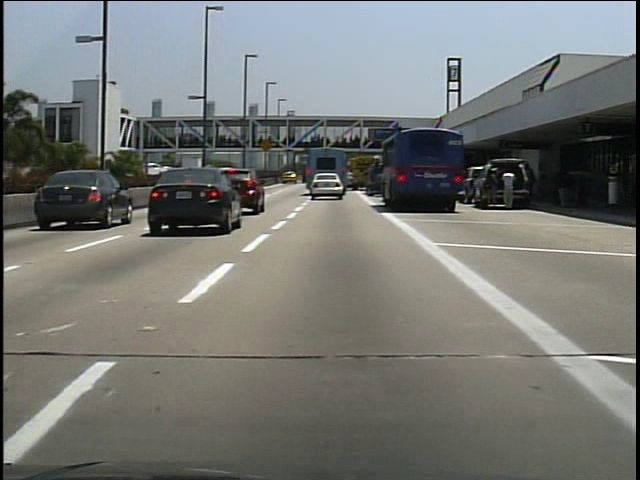person: (480, 165, 502, 216), (499, 163, 518, 213), (555, 167, 570, 209)
